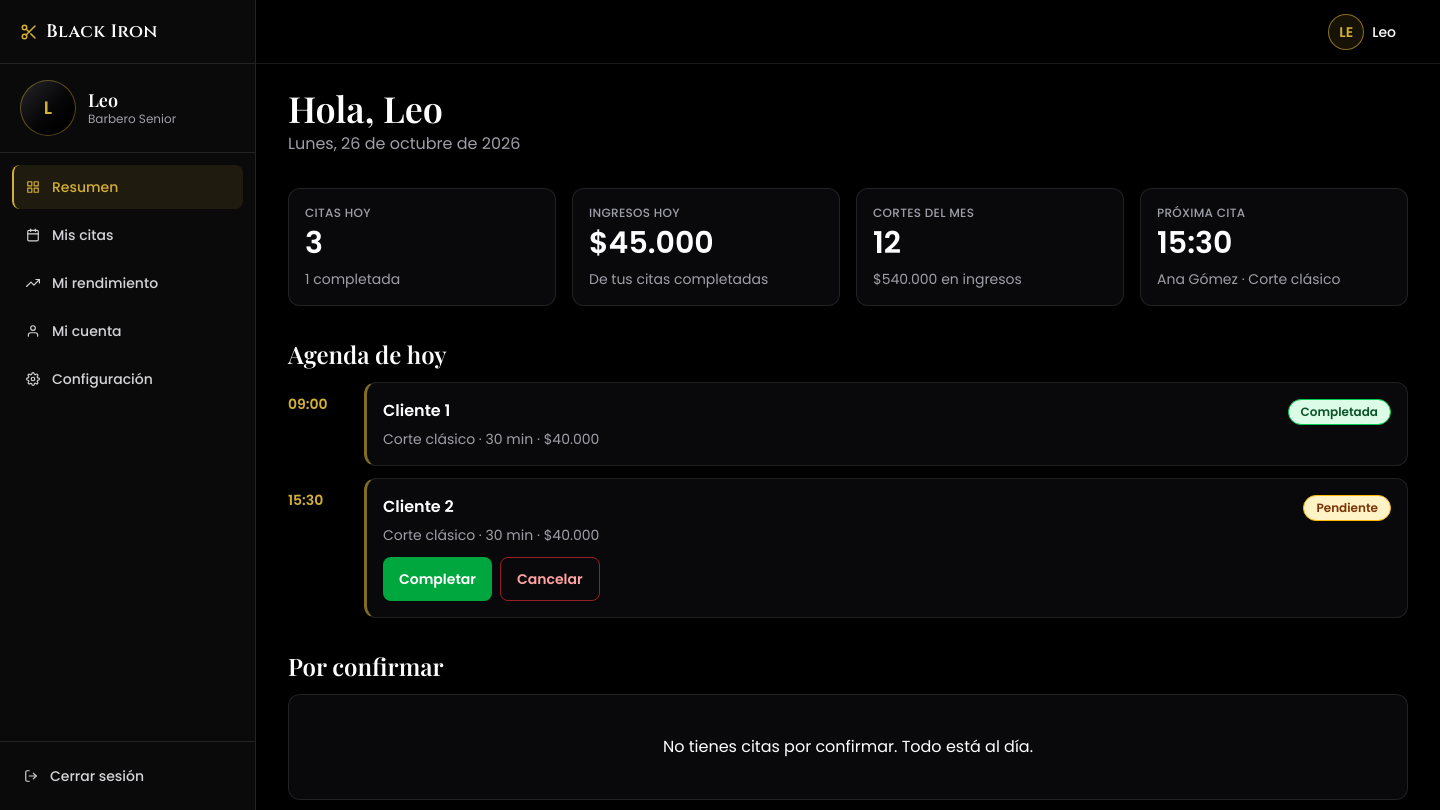
Test case: Confirmación al cerrar sesión (barbero) › el menú de usuario abre el diálogo (título, mensaje, foco en Cancelar) sin cerrar la sesión
Click the button with aria-label "Menú de usuario": (1368, 32) [1328,10,1408,54]
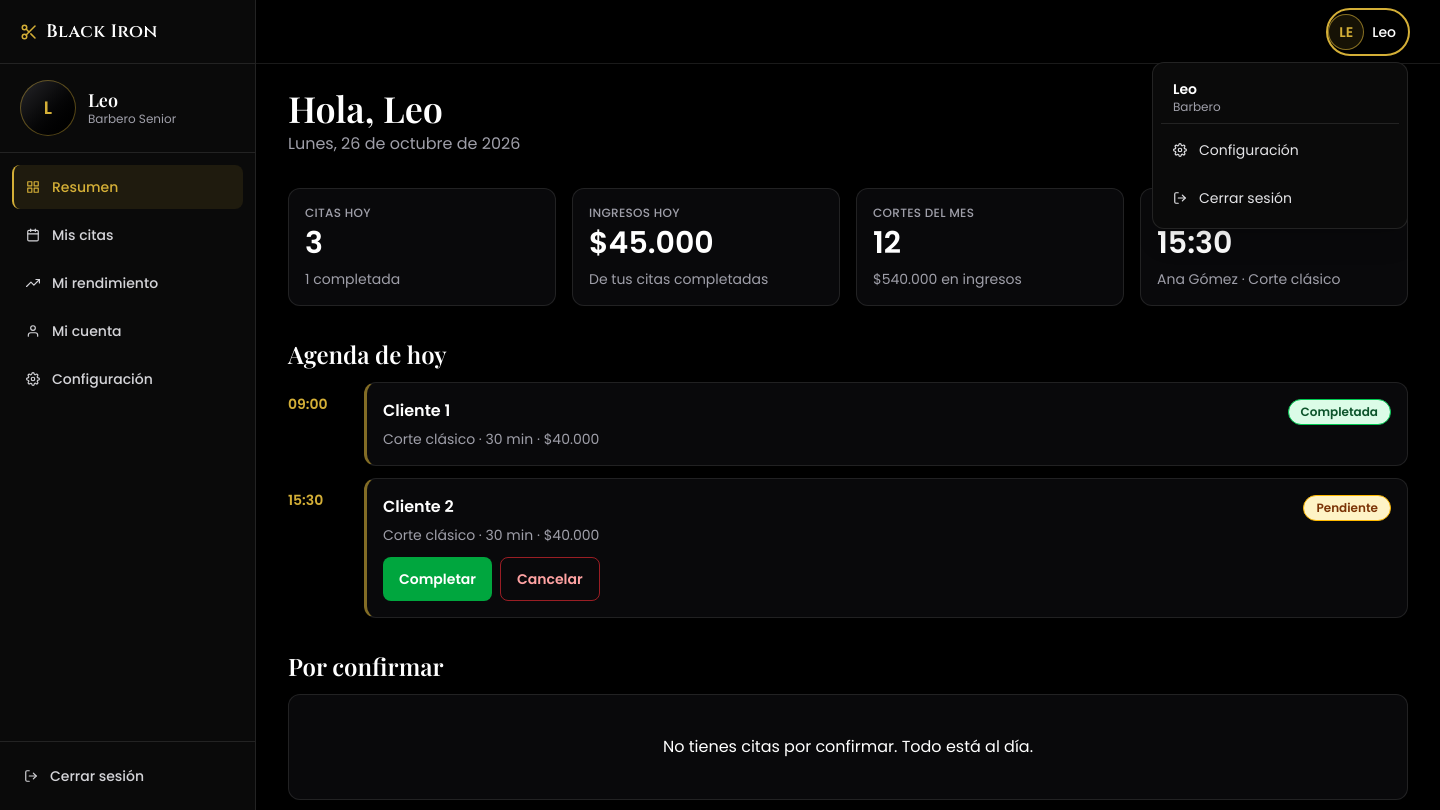
Click the button "Cerrar sesión" next to "Próxima cita": (1280, 198) [1161,176,1399,220]
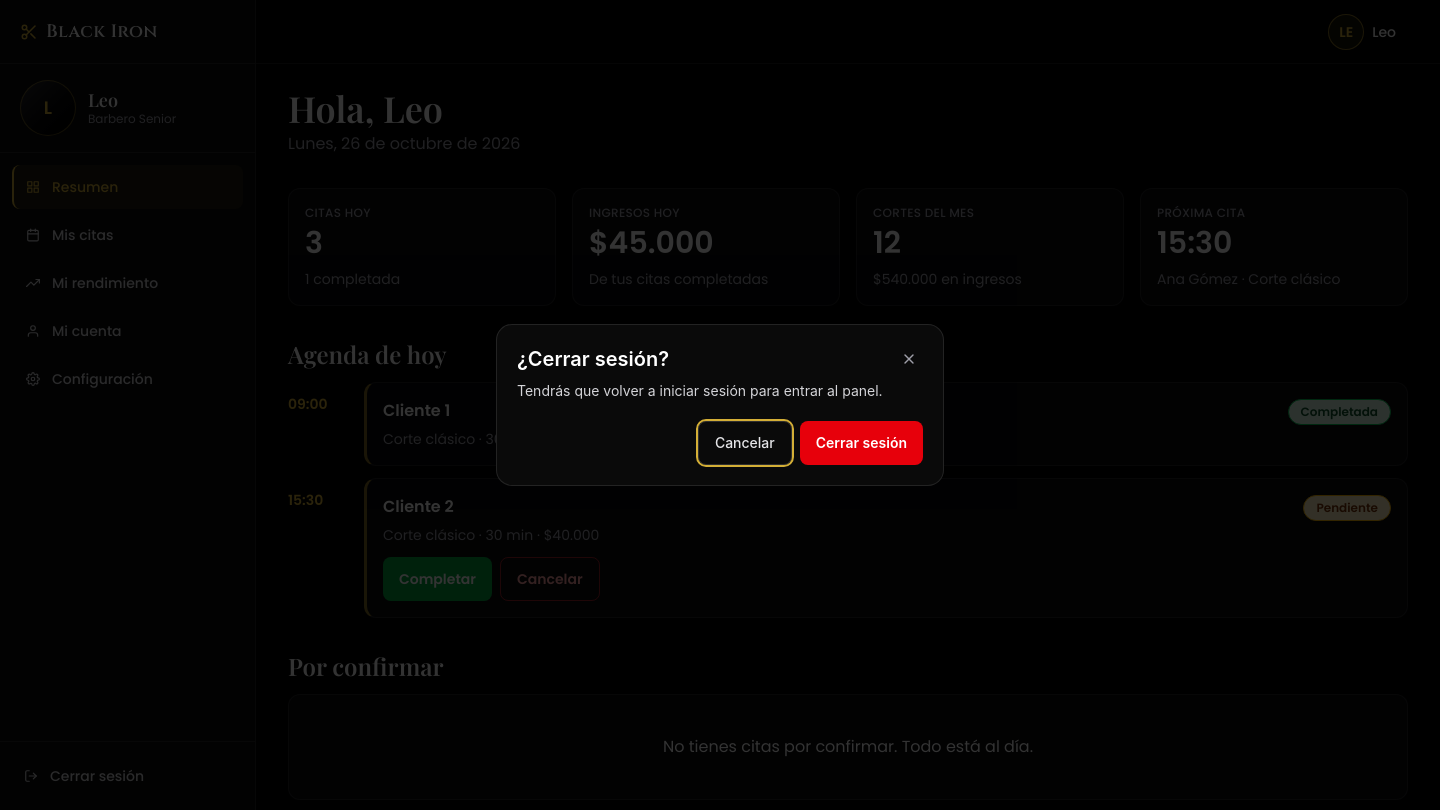
Check: the text "Tendrás que volver a iniciar sesión para entrar al panel." is shown, box [517,381,923,401]
